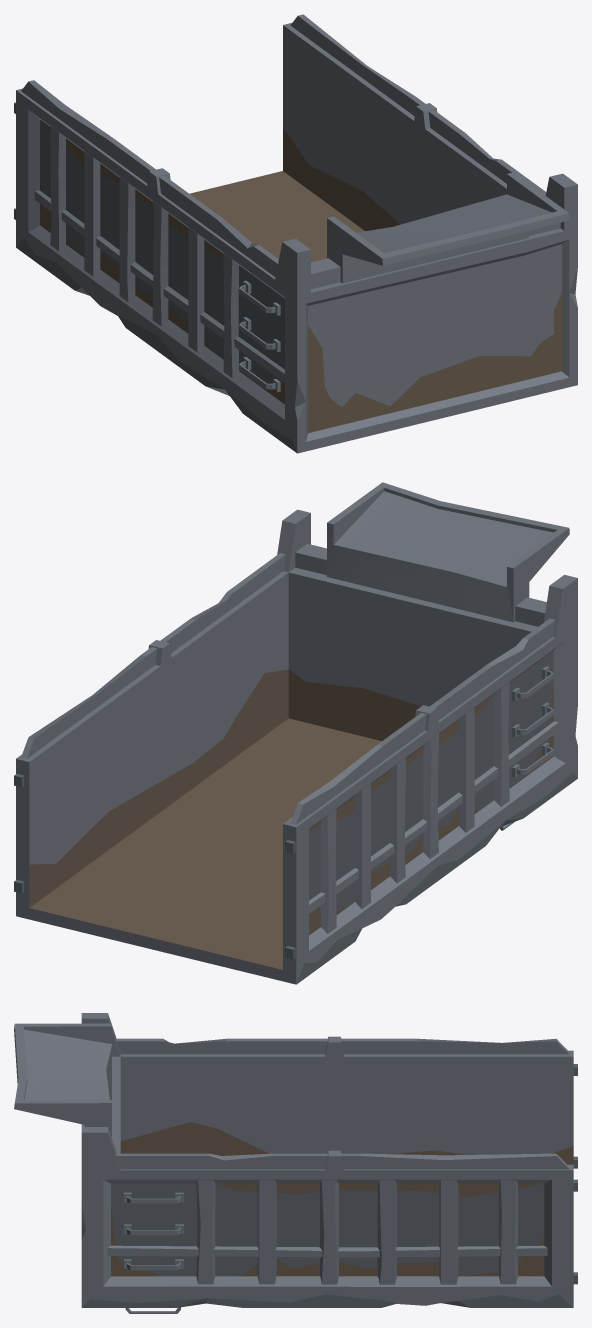
File: SM_Veh_BigRig_DumpTray_01.obj
3 renders of one model, top to bottom at view 1: azimuth 30°, elevation 25°; view 2: azimuth 150°, elevation 25°; view 3: azimuth 270°, elevation 25°, orthographic. The views are drawn at different scales.
Visible parts, largest first — view 1: SM_Veh_BigRig_DumpTray_01_0; view 2: SM_Veh_BigRig_DumpTray_01_0; view 3: SM_Veh_BigRig_DumpTray_01_0.
Boxes of the visible parts, x1,y1,x2,y2 form: SM_Veh_BigRig_DumpTray_01_0: (14, 14, 577, 453); SM_Veh_BigRig_DumpTray_01_0: (14, 482, 577, 984); SM_Veh_BigRig_DumpTray_01_0: (14, 1013, 577, 1313).
Size of the model in its own units: 3.12 by 2.37 by 6.07.
Materials: 1 (1 with a texture image).
